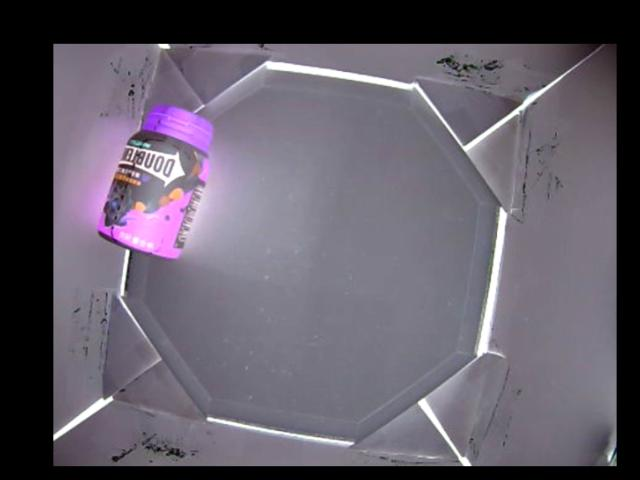Bottle: (93, 100, 215, 260)
